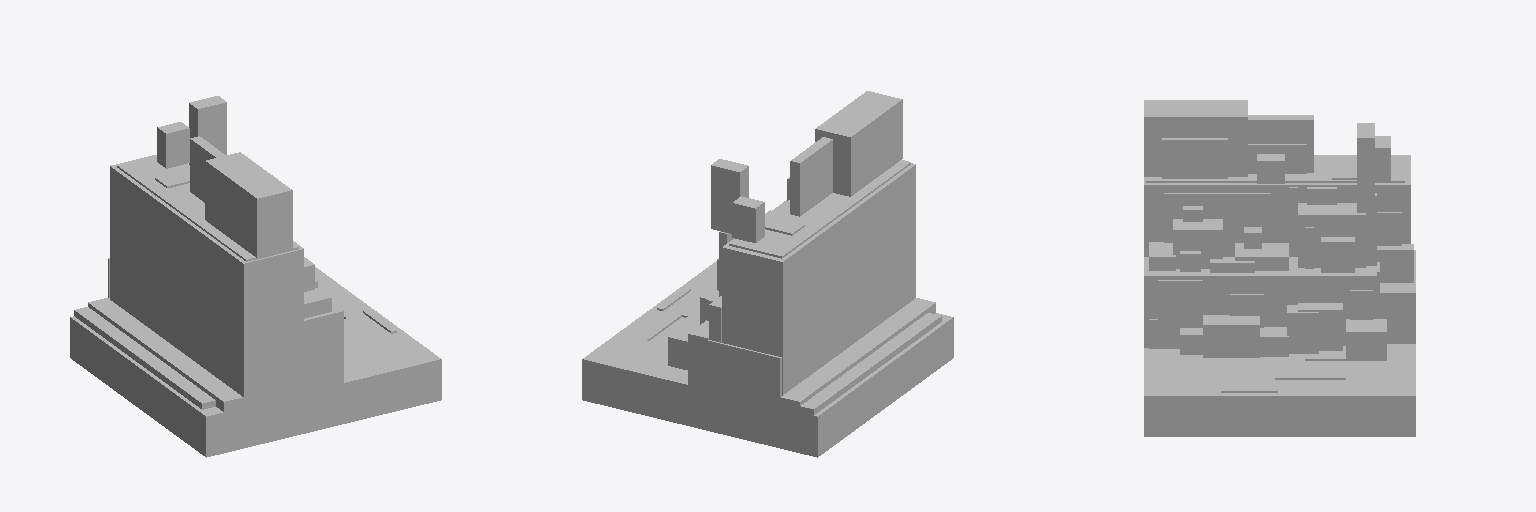
The model's file is 3d fon 2.1-0.obj.
3 renders of one model, left to right at view 1: azimuth 30°, elevation 25°; view 2: azimuth 150°, elevation 25°; view 3: azimuth 270°, elevation 25°, orthographic.
Visible parts, largest first — view 1: object 1; view 2: object 1; view 3: object 1.
Boxes of the visible parts, box(x1,y1,x2,y2) form: object 1: box(70, 96, 441, 457); object 1: box(582, 91, 953, 457); object 1: box(1144, 100, 1415, 436).
Size of the model in its own units: 12 by 12 by 12.